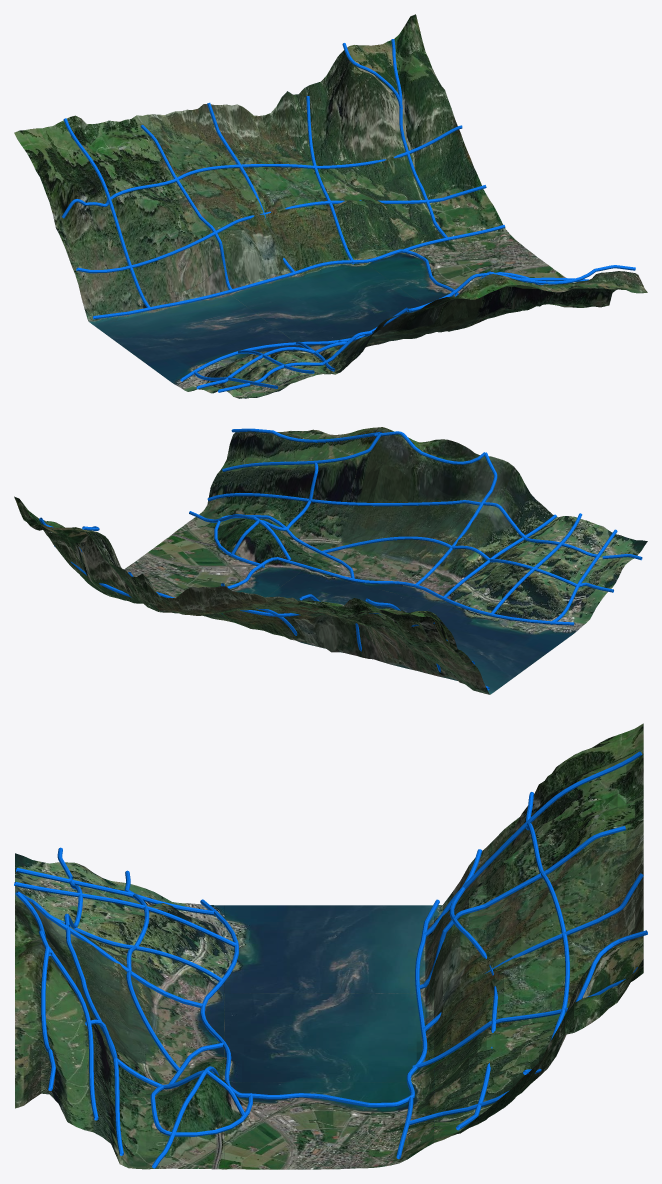
Rendered from Tutorial.fbx.
3 renders of one model, top to bottom at view 1: azimuth 30°, elevation 25°; view 2: azimuth 150°, elevation 25°; view 3: azimuth 270°, elevation 25°, orthographic. The views are drawn at different scales.
Visible parts, largest first — view 1: Layer 01; view 2: Layer 01; view 3: Layer 01.
Boxes of the visible parts, x1,y1,x2,y2 form: Layer 01: [14, 14, 647, 398]; Layer 01: [14, 427, 647, 694]; Layer 01: [14, 723, 647, 1169].
Size of the model in its own units: 0.4174 by 0.1483 by 0.4053.
Materials: 2 (1 with a texture image).
